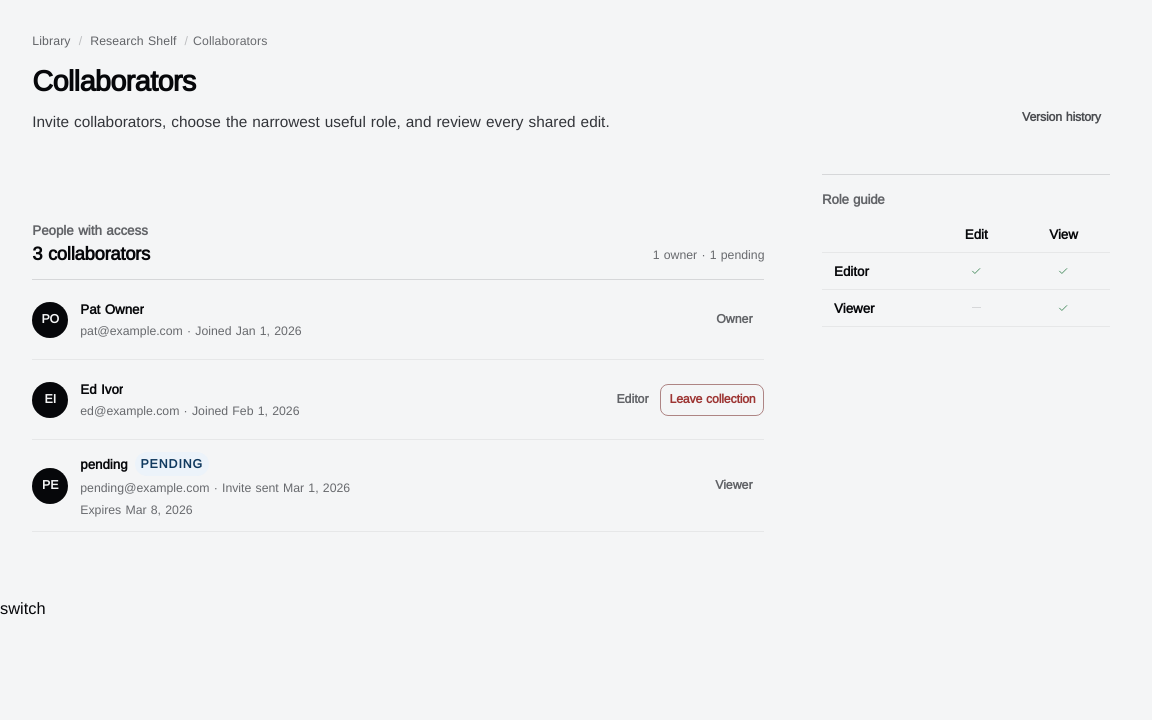
Collaborators page behaviour › lets the caller leave when canLeave is true
expect the element that starts with "Ed Ivor" is shown: met, box [32, 360, 764, 440]
Click the button "Leave collection" at {"x": 712, "y": 400}, box [660, 384, 764, 416]
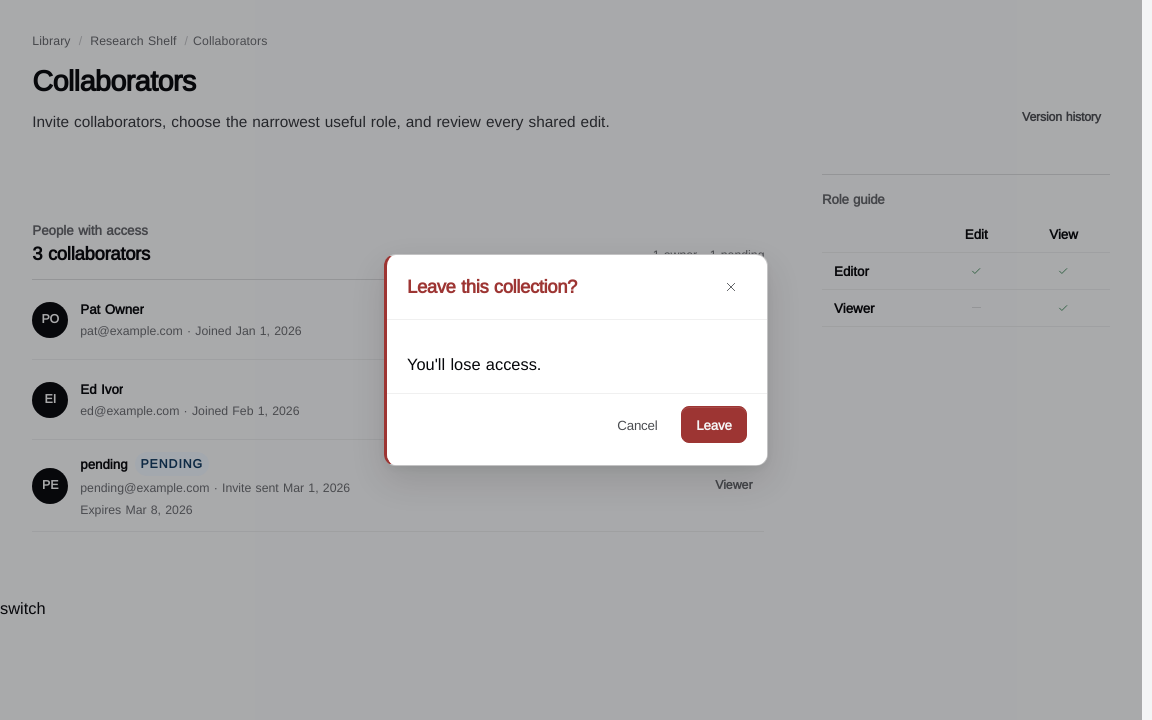
expect the element with test id "modal-panel" shows "Leave this collection?": met, box [407, 276, 577, 297]
expect the element with test id "modal-panel" shows "You'll lose access.": met, box [407, 354, 541, 374]
Click the button "Leave" at {"x": 714, "y": 425}, box [681, 406, 747, 443]
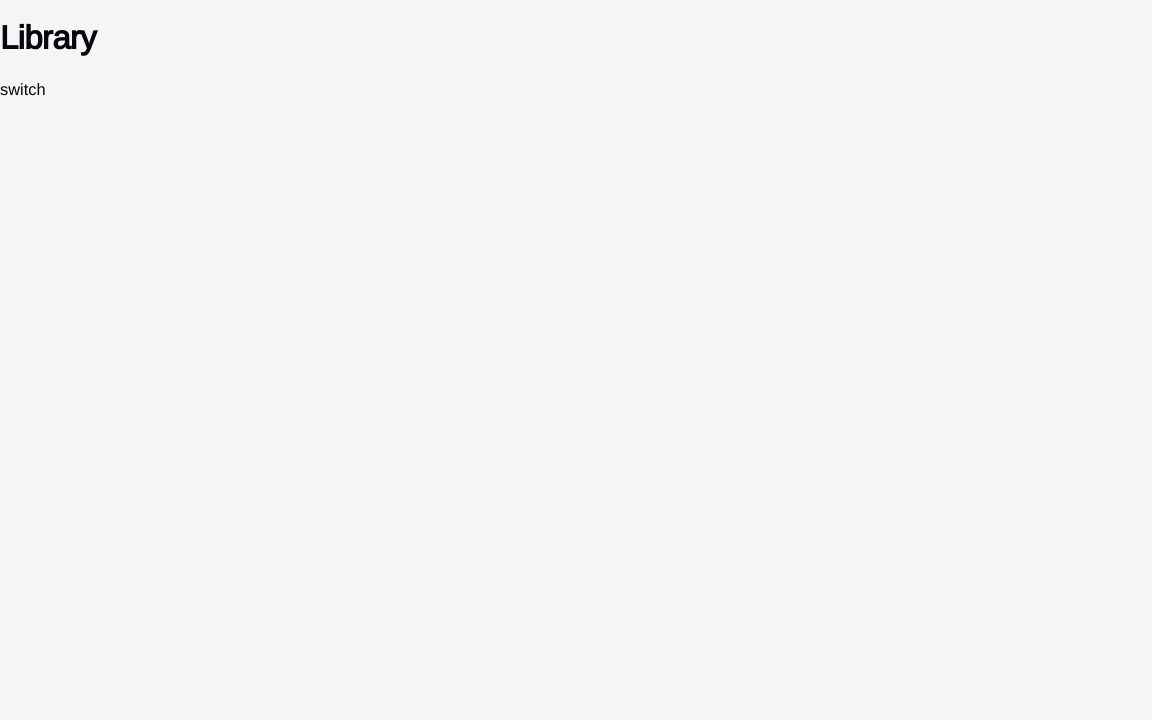
expect the heading "Library" is shown: met, box [0, 18, 96, 57]
expect the text "Pat Owner" is gone: met
